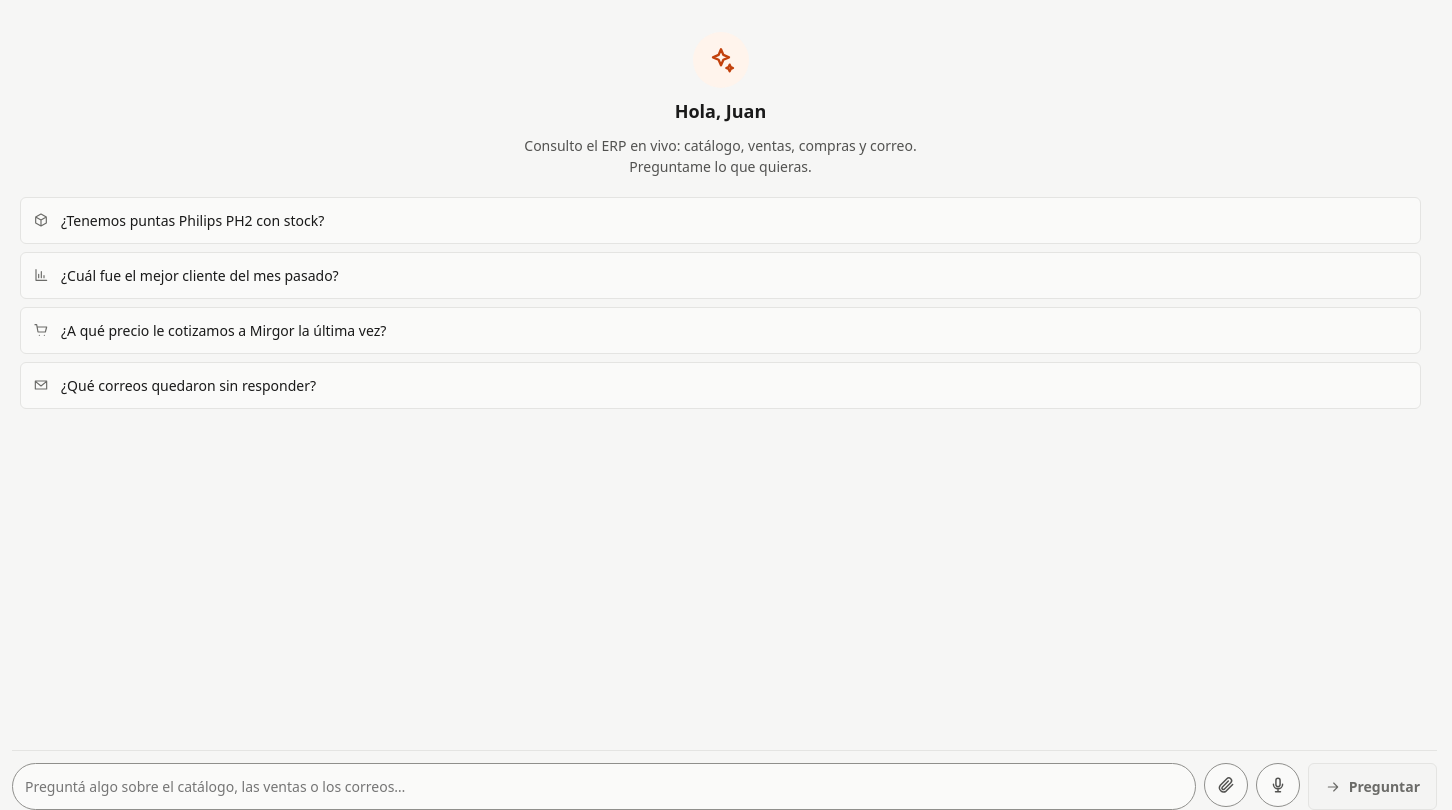
Test: El chat del asistente › muestra la respuesta y NO expone a quién consultó
The width and height of the screenshot is (1452, 810).
Type "¿tenemos punta PH2?" into the field named "Tu pregunta" at (604,786), box x1=12 y1=763 x2=1196 y2=809
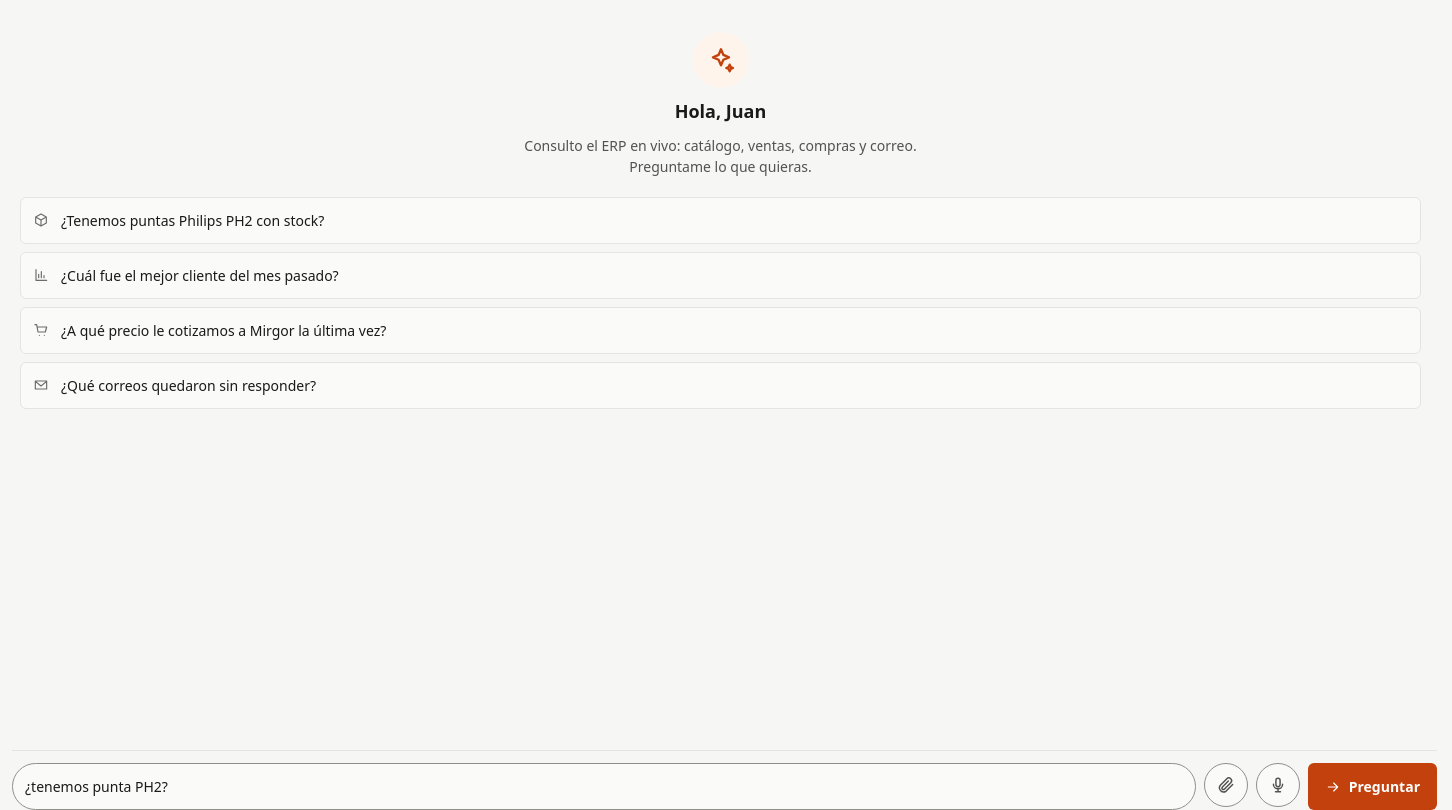
Click the button "Preguntar" at (1372,786), box x1=1308 y1=763 x2=1437 y2=809
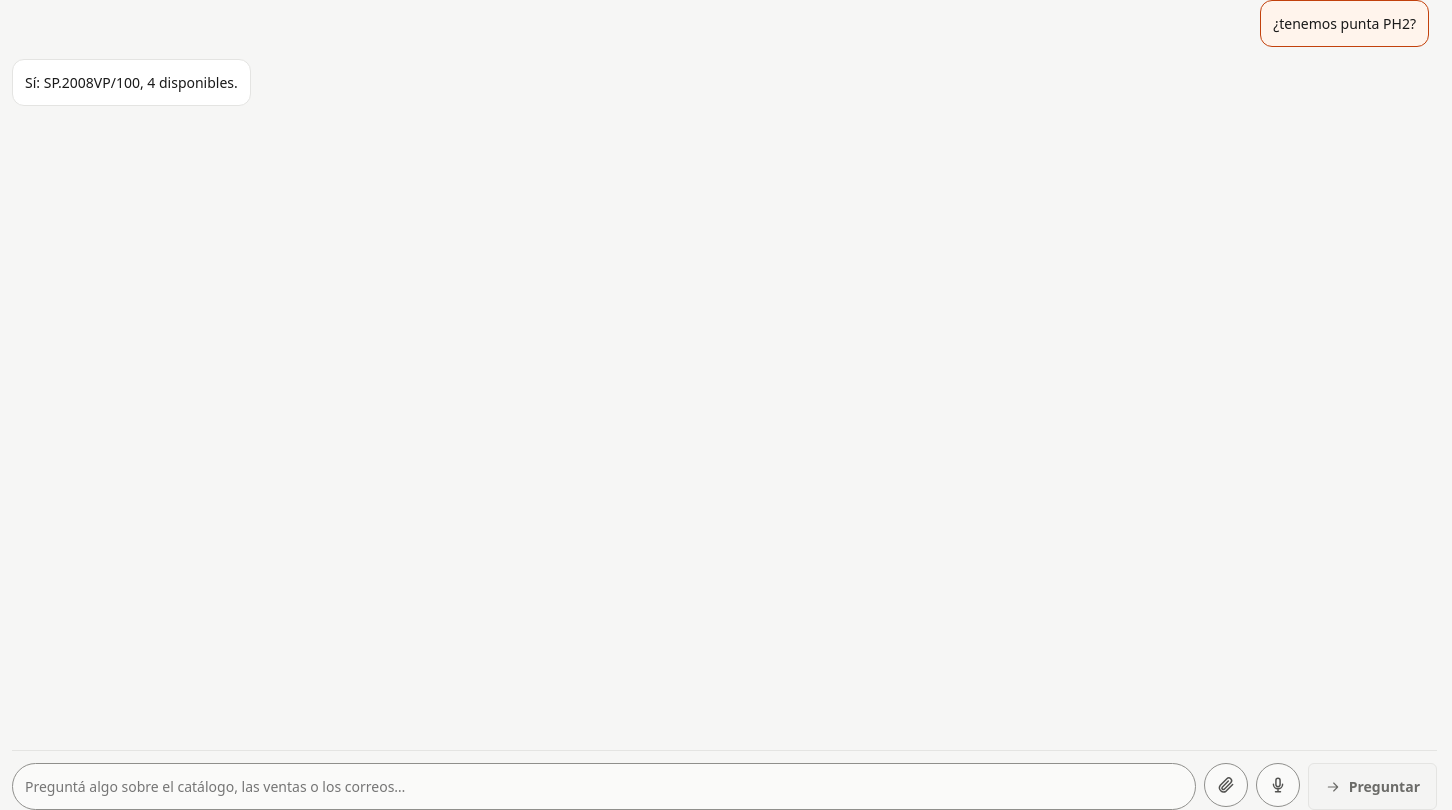
Result: the text "Sí: SP.2008VP/100, 4 disponibles." is shown at x1=25 y1=73 x2=238 y2=92
